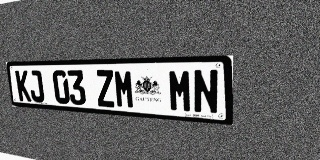0: (52, 70, 70, 104)
3: (67, 70, 86, 105)
J: (28, 70, 45, 103)
K: (15, 70, 32, 102)
M: (168, 69, 193, 113), (113, 70, 135, 109)
N: (193, 69, 219, 115)
Z: (95, 70, 116, 107)
